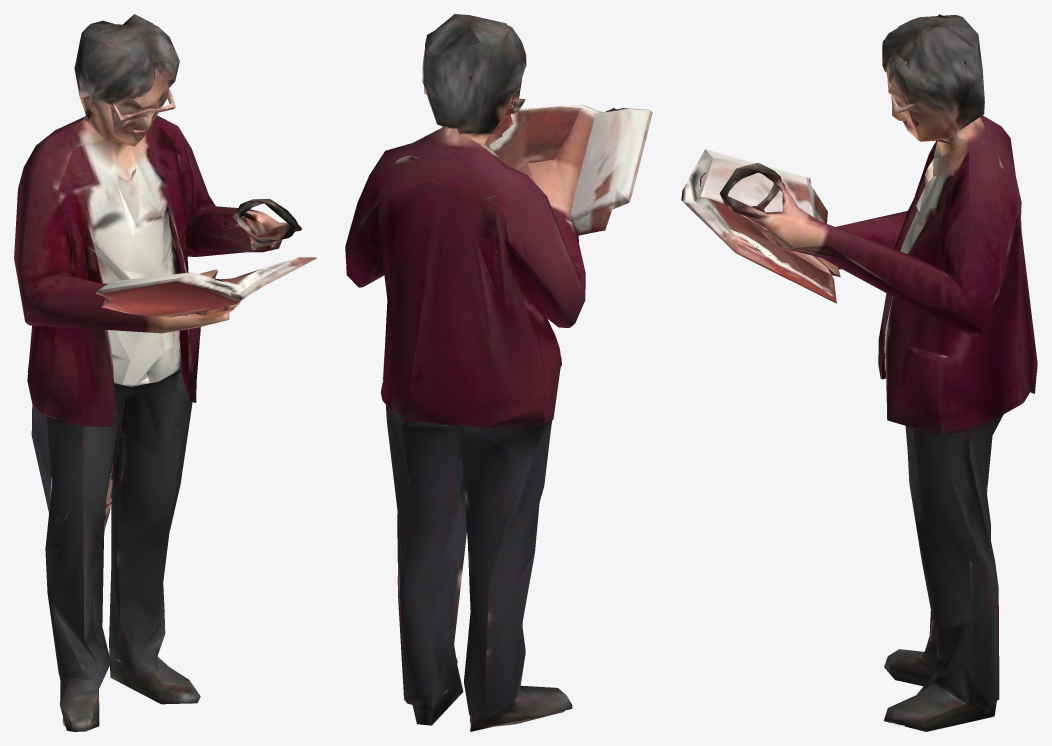
The model's file is person_24.glb.
3 renders of one model, left to right at view 1: azimuth 30°, elevation 25°; view 2: azimuth 150°, elevation 25°; view 3: azimuth 270°, elevation 25°, orthographic.
Visible parts, largest first — view 1: Human_Rig; view 2: Human_Rig; view 3: Human_Rig.
Part boxes in pixels (x1,y1,x2,y2): Human_Rig: [14, 14, 316, 731]; Human_Rig: [345, 14, 652, 731]; Human_Rig: [681, 14, 1037, 731].
Bounding box in the file's own units: 0.5411 × 1.62 × 0.7635.
1 material, 1 textured.
